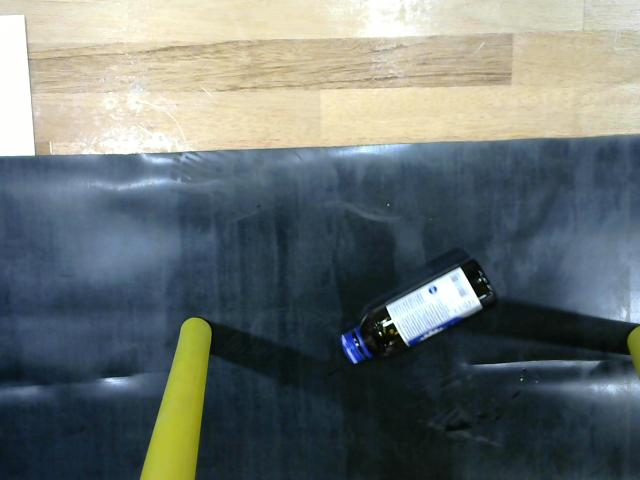glass: (340, 249, 505, 371)
